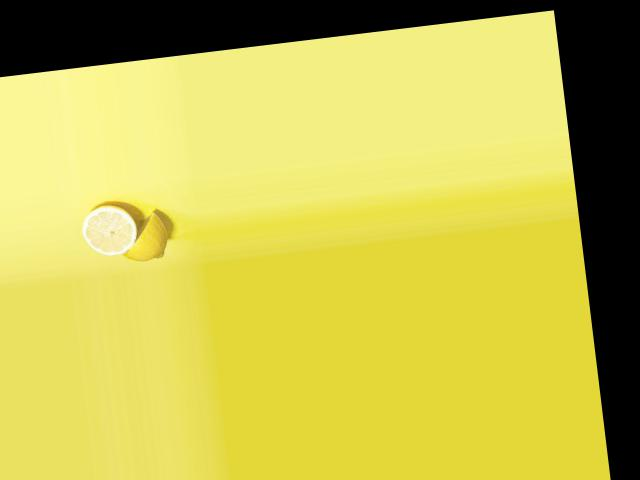lemon: (115, 203, 172, 264)
